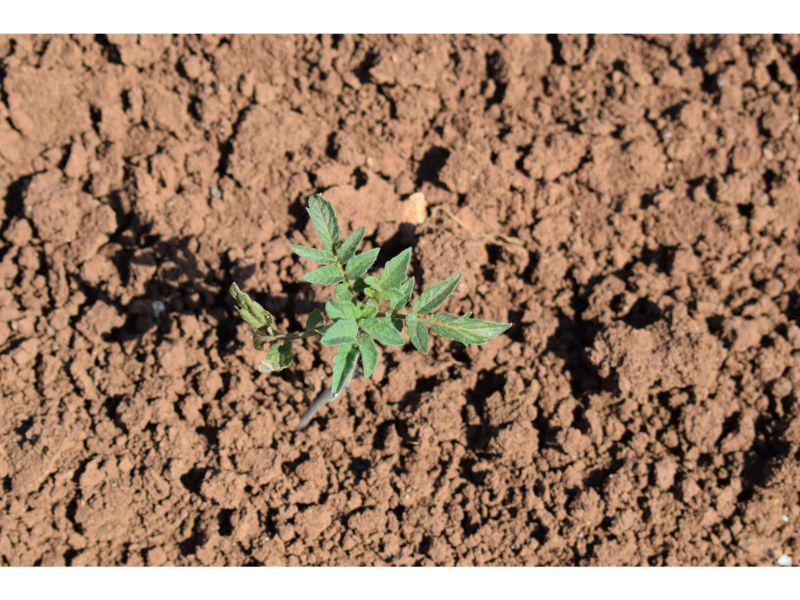tomato: (229, 192, 512, 402)
